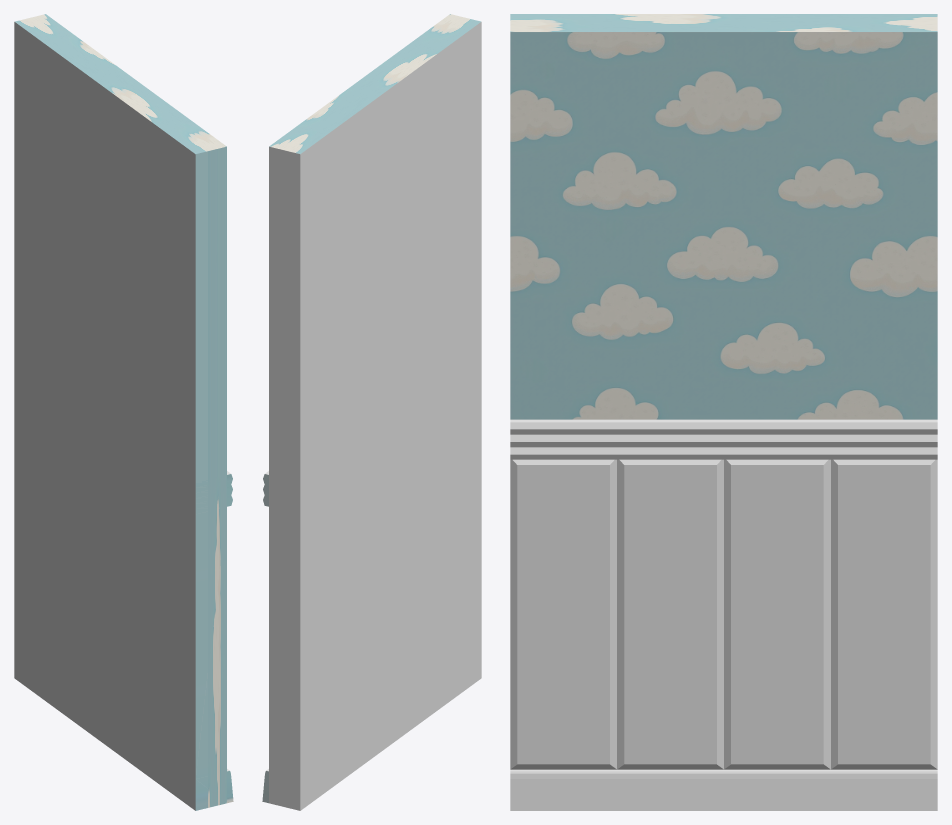
File: wall_section.fbx
3 views of the same model, side by side, from view 1: azimuth 30°, elevation 25°; view 2: azimuth 150°, elevation 25°; view 3: azimuth 270°, elevation 25° (orthographic). The views are drawn at different scales.
Visible parts, largest first — view 1: Cube; view 2: Cube; view 3: Cube.
Part boxes in pixels (bbox=[...]): Cube: bbox=[14, 14, 233, 810]; Cube: bbox=[262, 14, 481, 810]; Cube: bbox=[510, 14, 937, 810].
Bounding box in the file's own units: 12.1 × 200 × 100.
Materials: 1 (1 with a texture image).
